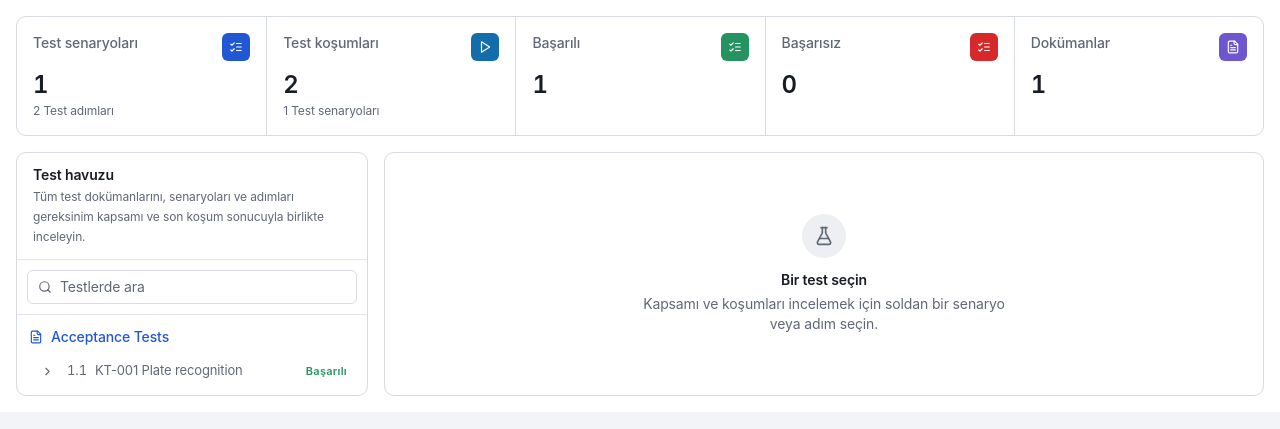
Test: TestRepositoryPage › attributes executions to their scenario using the real payload field
This screenshot has width=1280, height=429.
Click the button with test id "repository-scenario-1.1": (210, 371) [61, 355, 359, 387]
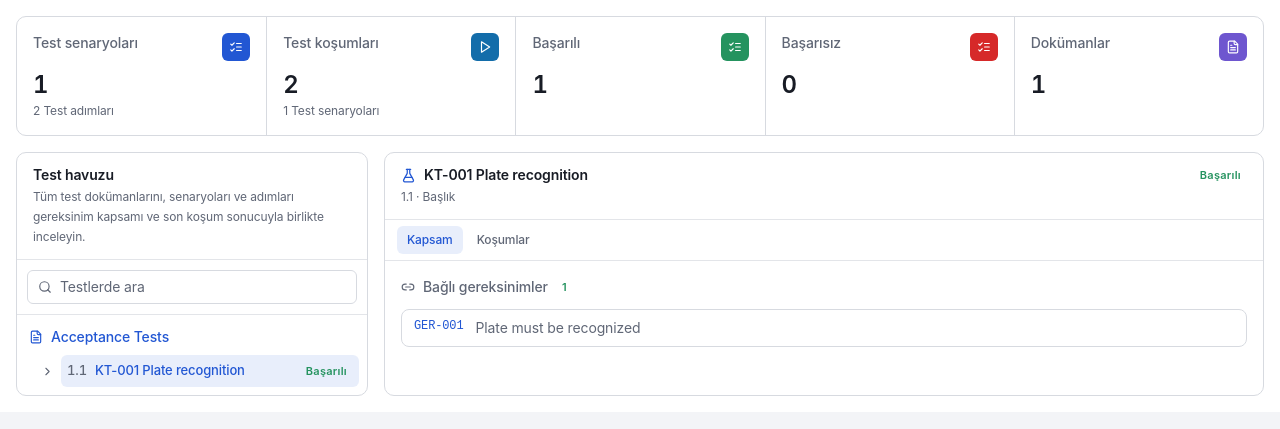
Click the tab with test id "test-detail-tab-executions": (503, 240) [467, 226, 540, 254]
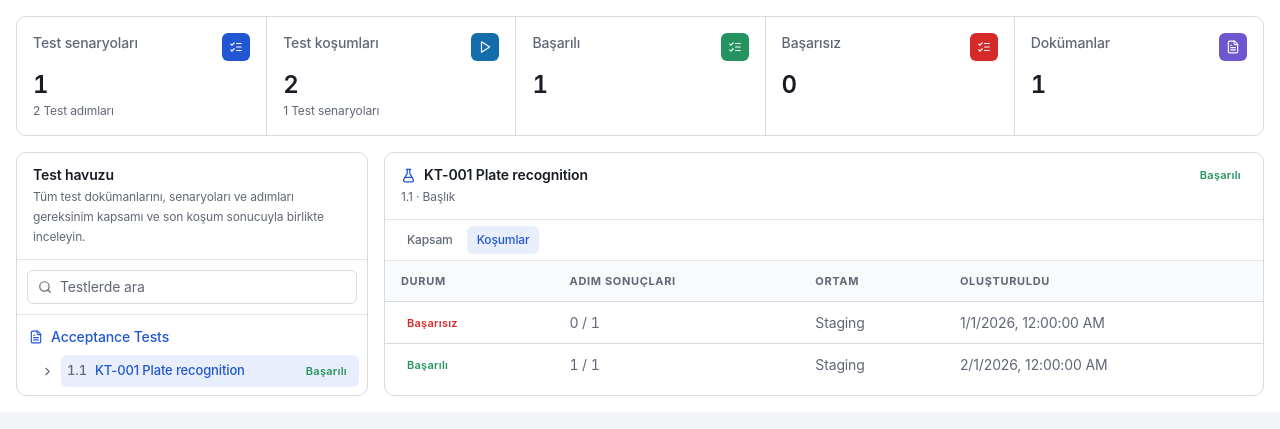
Check: the row with test id "execution-row-exec-new" is shown, box [385, 344, 1263, 385]
Check: the row with test id "execution-row-exec-old" is shown, box [385, 302, 1263, 344]
